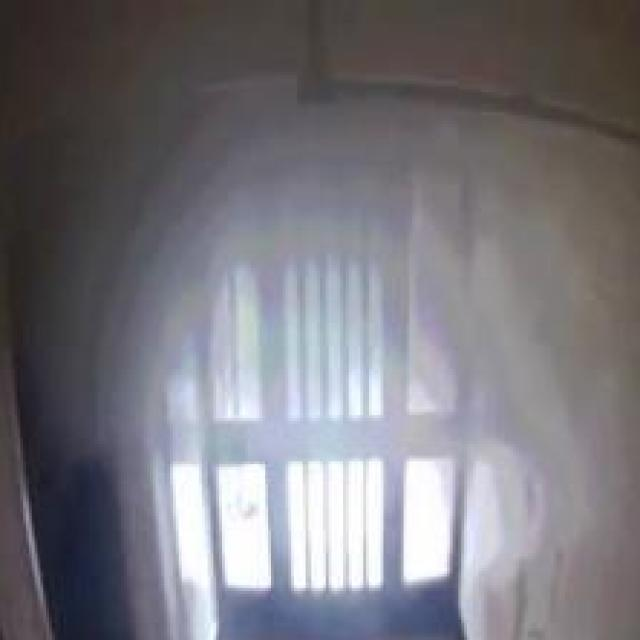fire: (75, 108, 571, 451)
